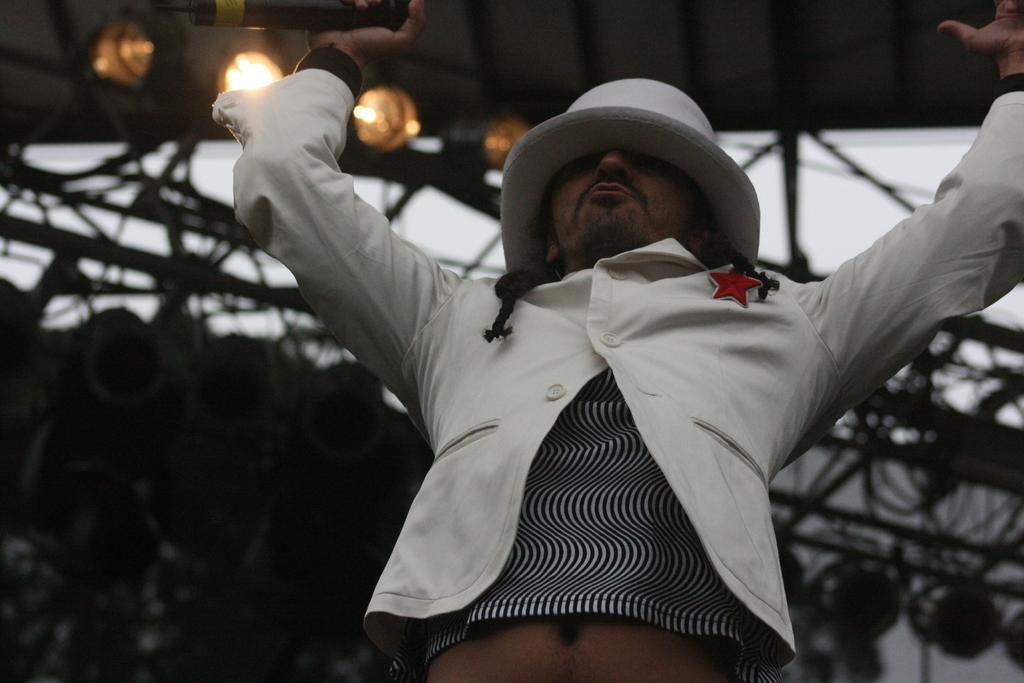Hat: (498, 79, 756, 273)
